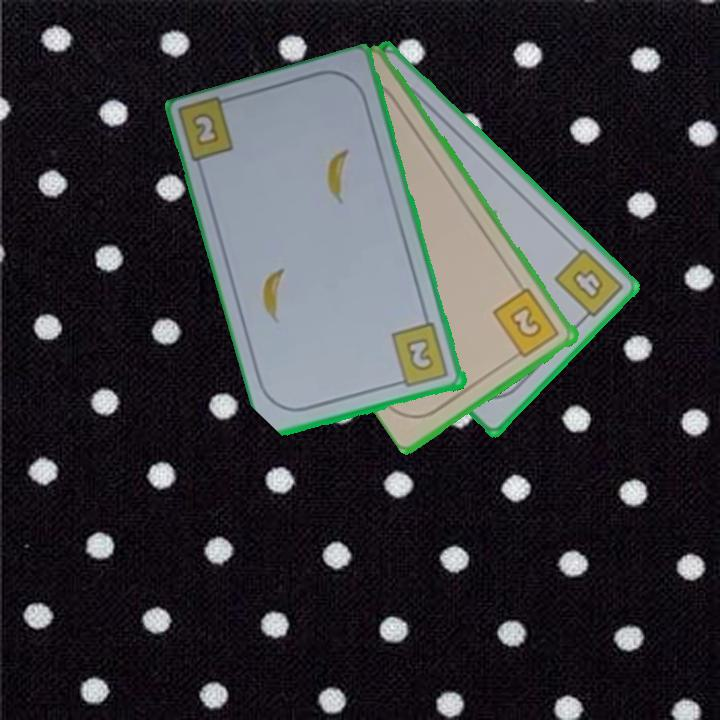2b: (489, 284, 563, 363), (388, 320, 452, 391), (188, 109, 223, 149)
4b: (551, 244, 627, 327)
